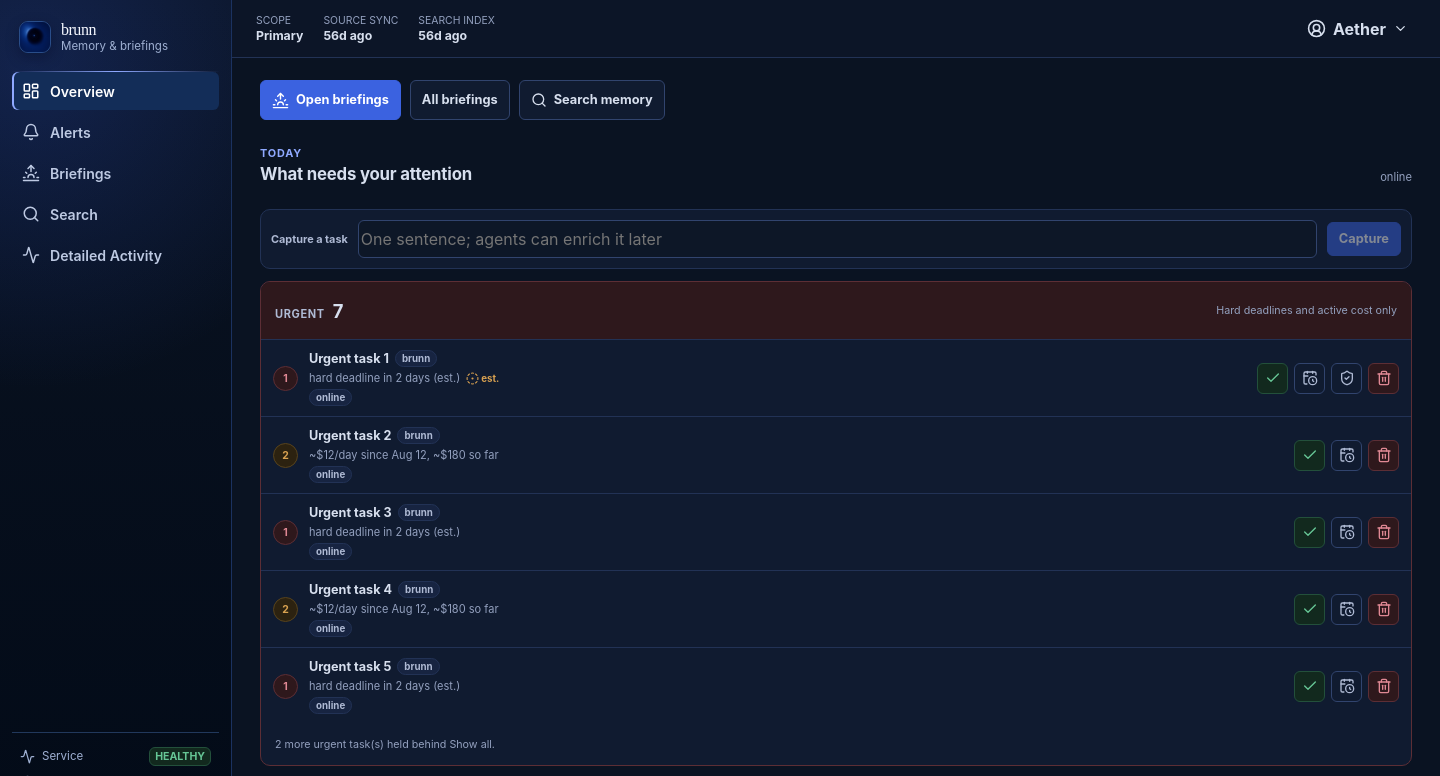
Scenario: human-facing navigation and settings › keeps the primary navigation focused and opens settings from the user menu
Expected: the link "Overview" is shown, [12,72,219,110]
Expected: the link "Alerts" is shown, [22,123,91,141]
Click the button with aria-label "User menu for Aether".
click(1358, 28)  # box [1299,10,1416,46]
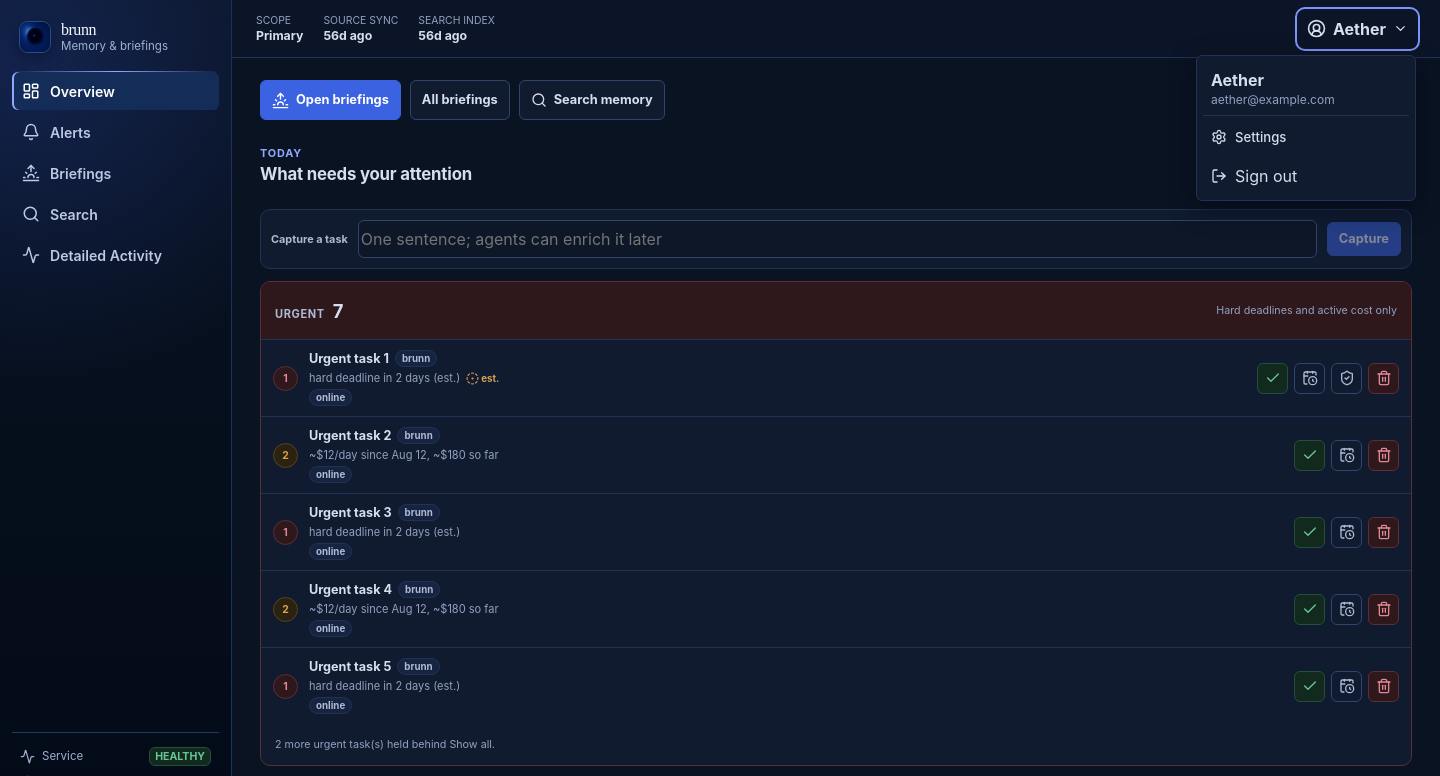
Click the menu item "Settings".
click(1249, 136)  # box [1211,128,1286,144]
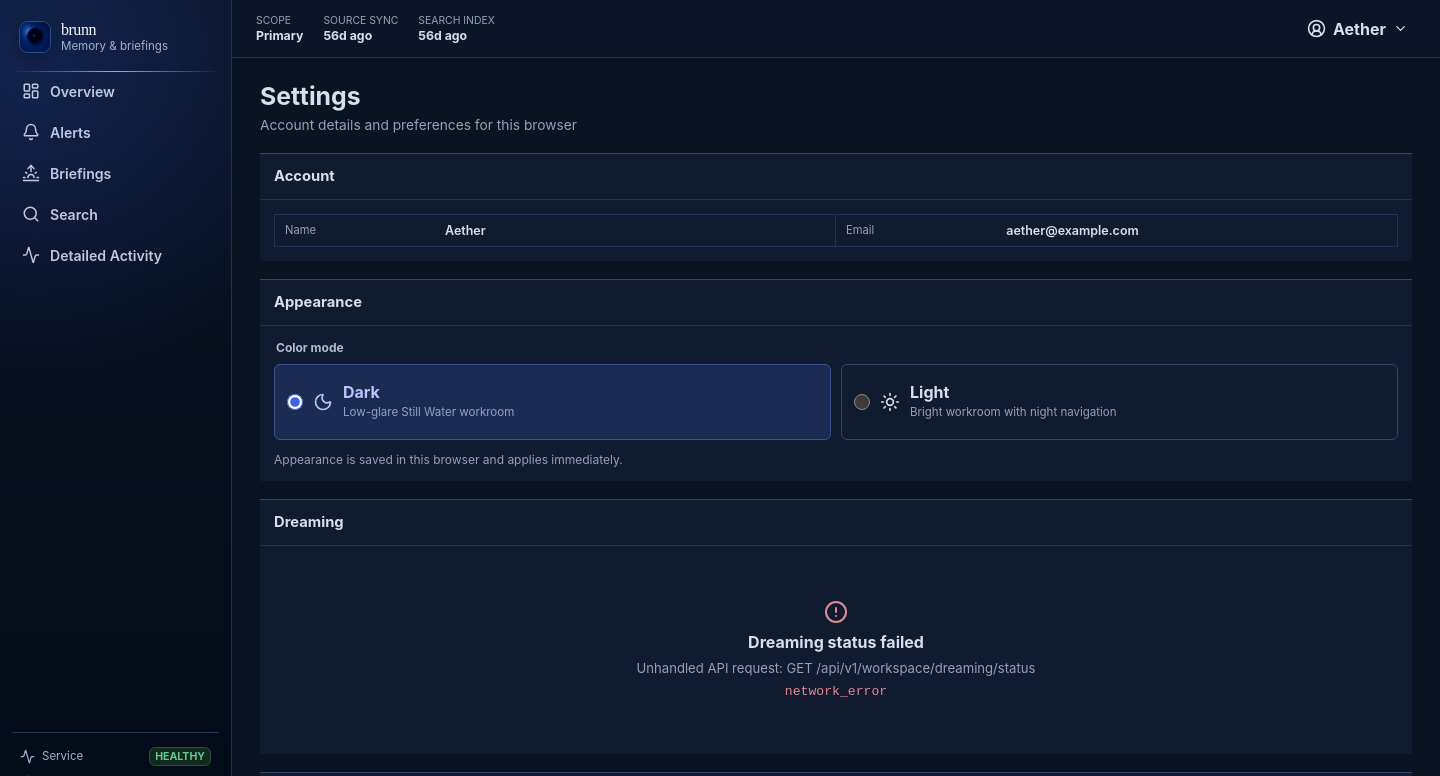
Expected: the heading "Settings" is shown, [260,81,361,111]
